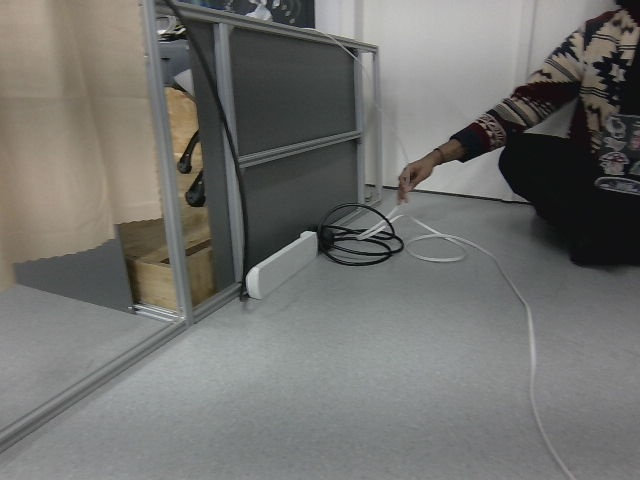curtain: (0, 0, 160, 254)
